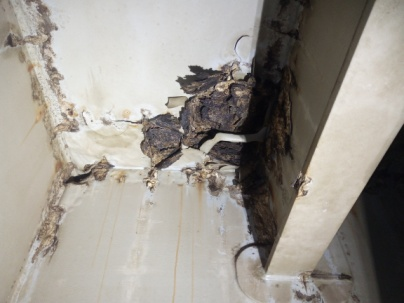corrosion: (141, 62, 264, 181), (11, 6, 91, 139), (258, 32, 313, 154), (194, 167, 261, 213), (41, 169, 66, 256), (67, 159, 120, 194)
